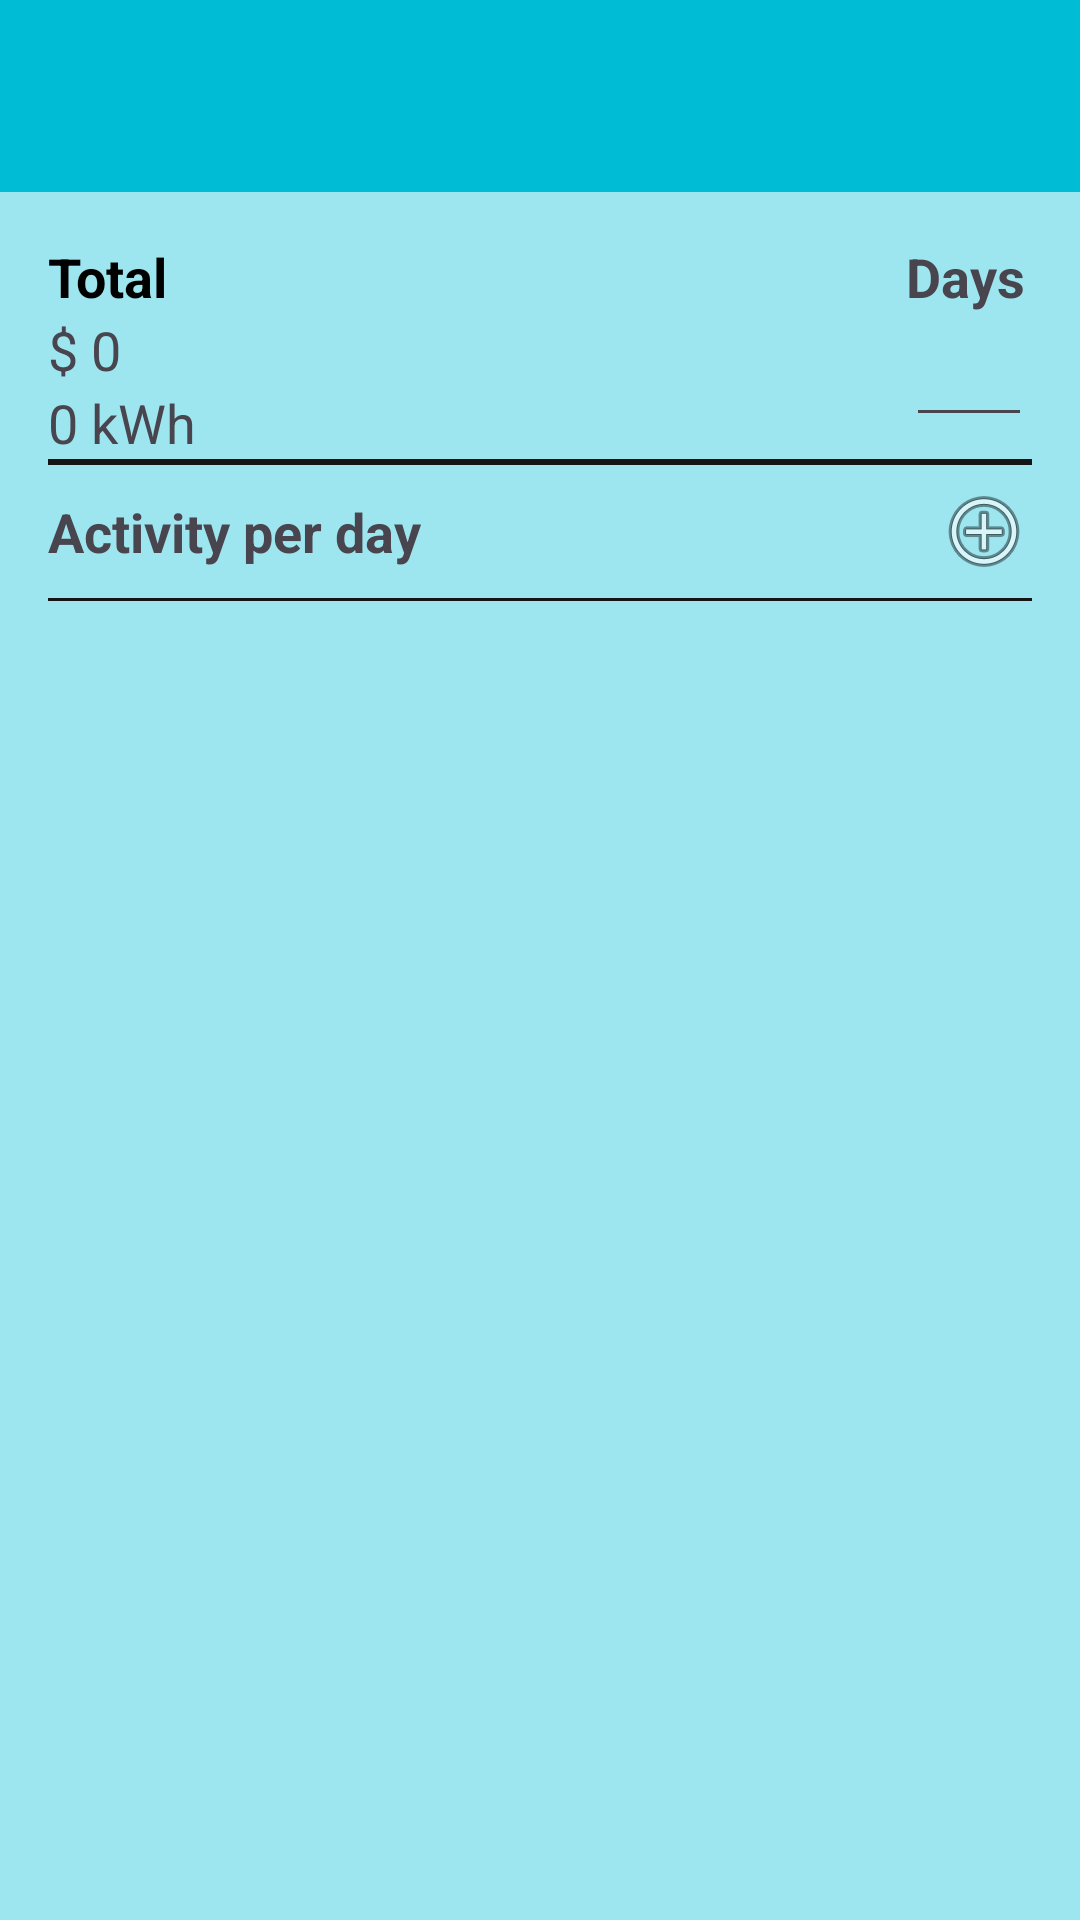

Icon click points for this 1080px x 1920px phone screenshot, format (x,y):
Add activity: (984,531)
